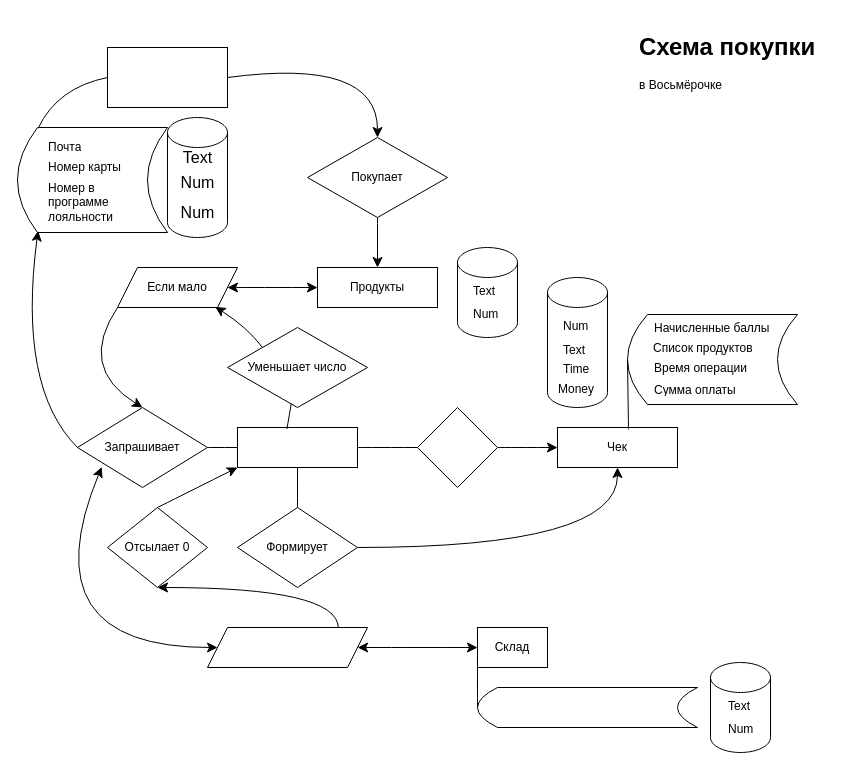
The diagram is 842 pixels wide and 770 high, and some of its shapes have lost their labels. The centre of each missing label's shape, as x and y in pixels:
Если нет продуктов: point (287, 647)
Отсылает: point (457, 447)
Покупатель: point (167, 77)
Продукты и их количество: point (587, 707)
Система: point (297, 447)
